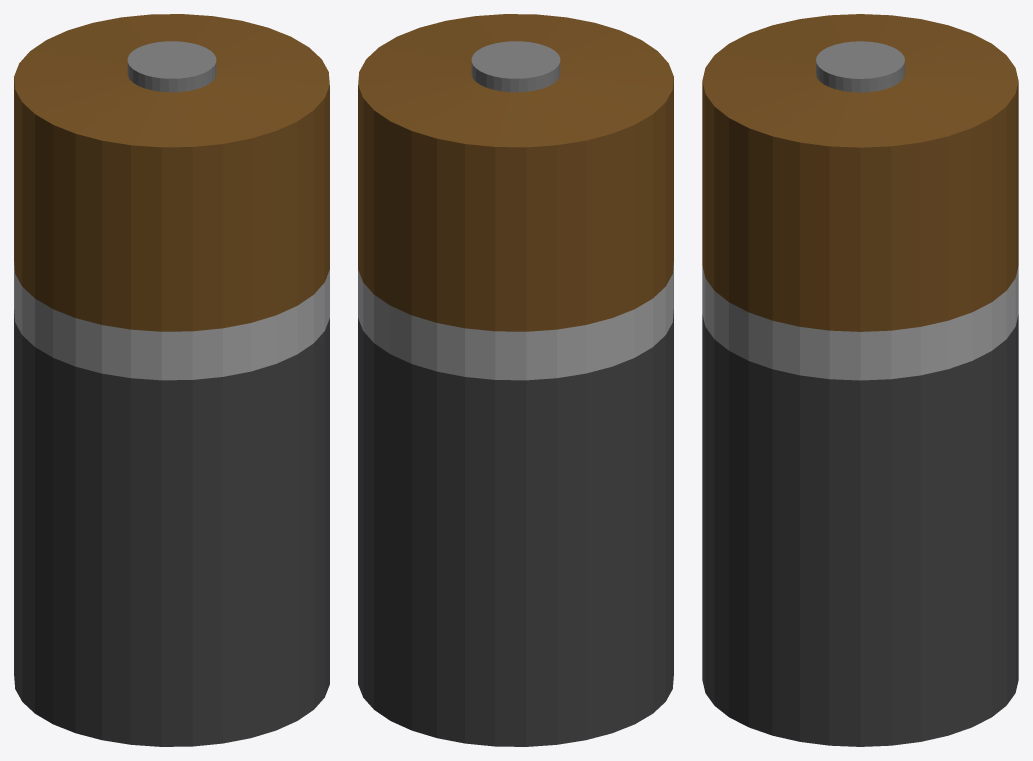
File: Battery.fbx
3 renders of one model, left to right at view 1: azimuth 30°, elevation 25°; view 2: azimuth 150°, elevation 25°; view 3: azimuth 270°, elevation 25°, orthographic.
Parts seen in each view (by area): view 1: Cylinder; view 2: Cylinder; view 3: Cylinder.
Part boxes in pixels (x1,y1,x2,y2): Cylinder: (14, 14, 329, 746); Cylinder: (358, 14, 673, 746); Cylinder: (702, 14, 1018, 746).
Bounding box in the file's own units: 10 × 22.17 × 10.
